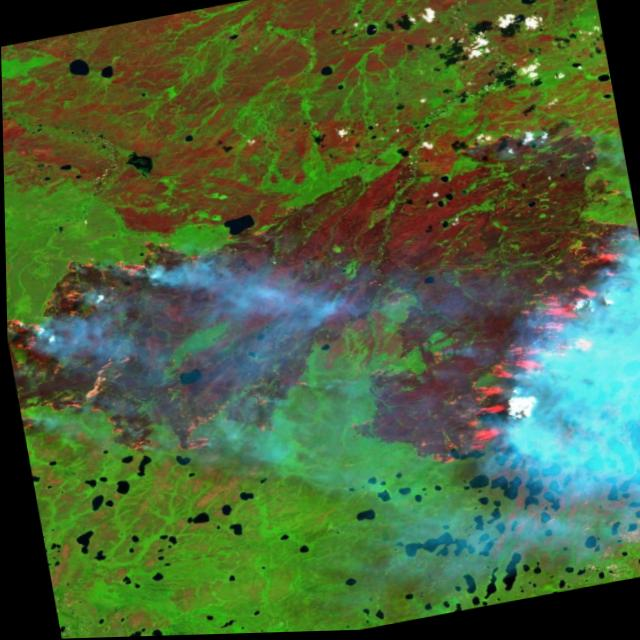fire: (347, 196, 640, 497), (4, 220, 252, 500)
